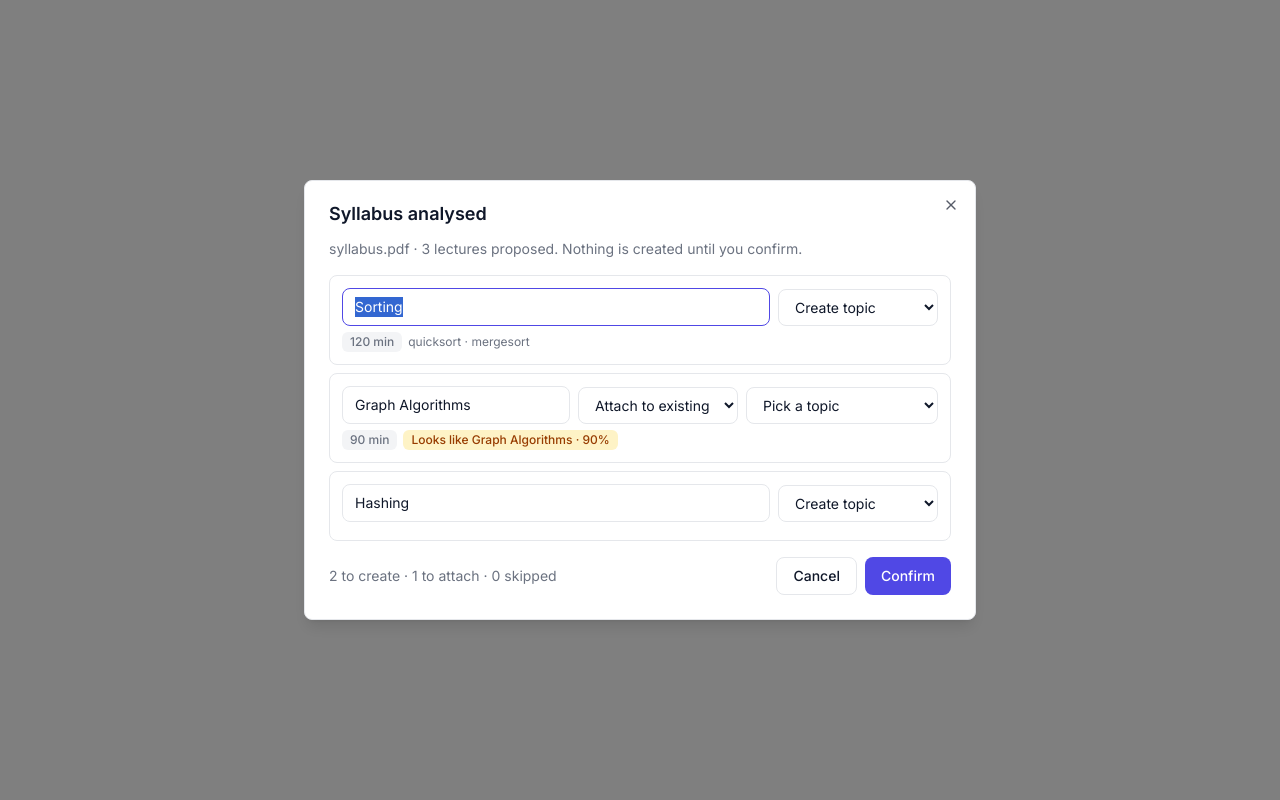
Test: SyllabusReviewDialog › will not confirm an attach without a topic
Select "Attach to existing" in the dropdown named "Decision for proposal 1" at (858, 307), box [778, 288, 938, 326]
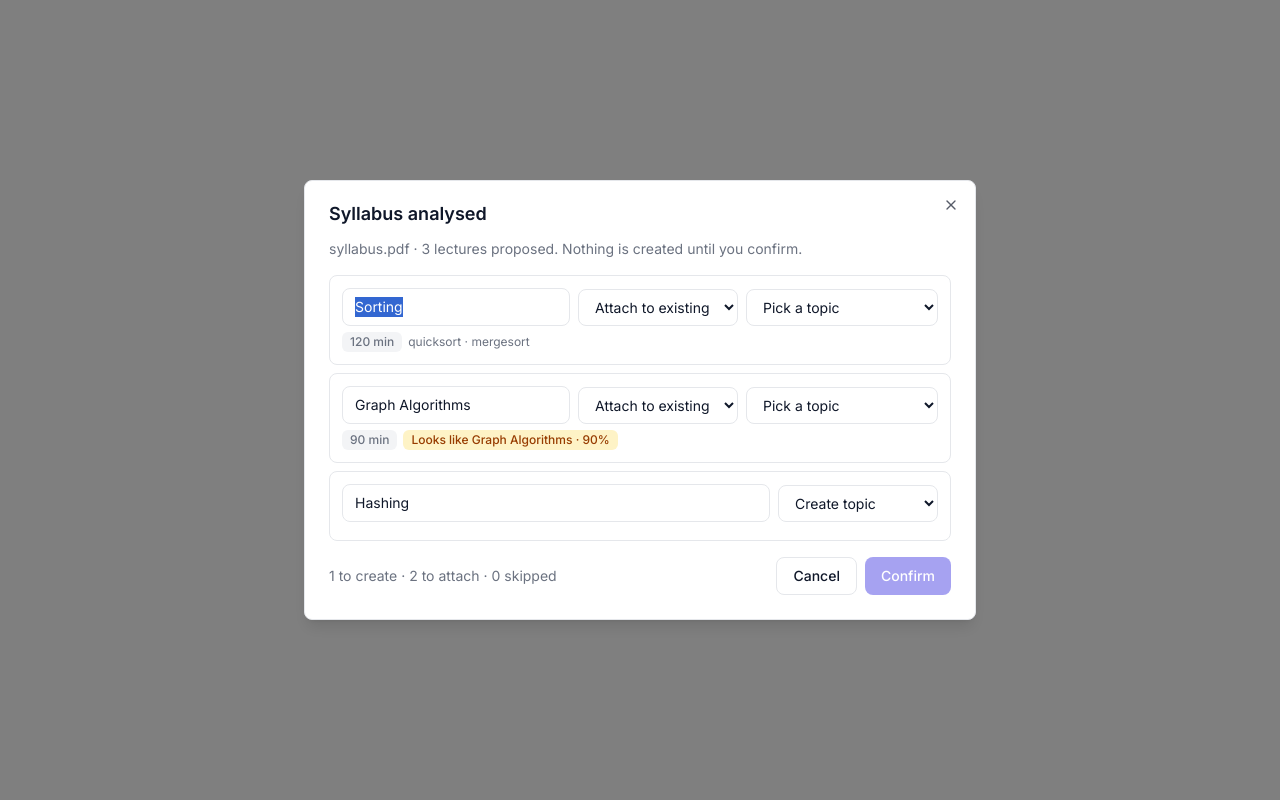
Expected: the button "Confirm" is disabled, [865, 557, 951, 595]
